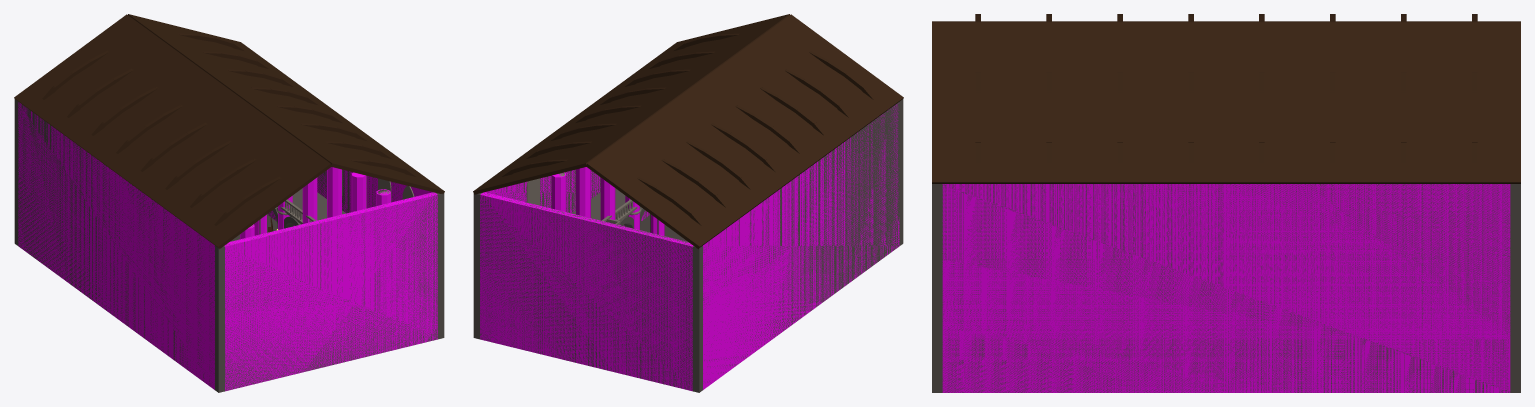
Rendered from igreja.glb.
3 renders of one model, left to right at view 1: azimuth 30°, elevation 25°; view 2: azimuth 150°, elevation 25°; view 3: azimuth 270°, elevation 25°, orthographic. The views are drawn at different scales.
Visible parts, largest first — view 1: OCC_roof-1, COL_box_wall_front, COL_box_wall_left, OCC_wall_front, OCC_wall_left, OCC_roof1, static_MAT_CLOTH_wood_dark, COL_box_wall_right, OCC_wall_right, COL_cyl_pillar1_4, static_MAT_CLOTH_church_stone, OCC_wall_back (+3 smaller); view 2: OCC_roof-1, COL_box_wall_back, COL_box_wall_left, OCC_wall_back, OCC_wall_left, OCC_roof1, static_MAT_CLOTH_wood_dark, COL_box_wall_right, OCC_wall_right, static_MAT_CLOTH_stone_trim, COL_cyl_pillar1_1, static_MAT_CLOTH_church_stone (+3 smaller); view 3: COL_box_wall_right, OCC_roof1, OCC_wall_right, static_MAT_CLOTH_wood_dark, OCC_wall_back, OCC_wall_front, OCC_roof-1.
Part boxes in pixels (x1=…): OCC_roof-1: x1=14, y1=14, x2=331, y2=249; COL_box_wall_front: x1=224, y1=192, x2=437, y2=391; COL_box_wall_left: x1=18, y1=102, x2=214, y2=389; OCC_wall_front: x1=215, y1=192, x2=444, y2=392; OCC_wall_left: x1=16, y1=102, x2=215, y2=384; OCC_roof1: x1=128, y1=14, x2=444, y2=193; static_MAT_CLOTH_wood_dark: x1=42, y1=33, x2=415, y2=232; COL_box_wall_right: x1=268, y1=170, x2=432, y2=225; OCC_wall_right: x1=268, y1=169, x2=419, y2=221; COL_cyl_pillar1_4: x1=327, y1=167, x2=341, y2=217; static_MAT_CLOTH_church_stone: x1=259, y1=188, x2=345, y2=234; OCC_wall_back: x1=14, y1=99, x2=18, y2=245; OCC_roof-1: x1=586, y1=14, x2=903, y2=249; COL_box_wall_back: x1=480, y1=192, x2=693, y2=390; COL_box_wall_left: x1=703, y1=103, x2=899, y2=389; OCC_wall_back: x1=473, y1=192, x2=702, y2=392; OCC_wall_left: x1=703, y1=100, x2=901, y2=382; OCC_roof1: x1=473, y1=14, x2=789, y2=194; static_MAT_CLOTH_wood_dark: x1=502, y1=33, x2=875, y2=225; COL_box_wall_right: x1=485, y1=170, x2=649, y2=226; OCC_wall_right: x1=481, y1=170, x2=649, y2=225; static_MAT_CLOTH_stone_trim: x1=526, y1=170, x2=641, y2=224; COL_cyl_pillar1_1: x1=576, y1=167, x2=590, y2=217; static_MAT_CLOTH_church_stone: x1=572, y1=188, x2=658, y2=234; COL_box_wall_right: x1=942, y1=184, x2=1510, y2=392; OCC_roof1: x1=932, y1=22, x2=1520, y2=183; OCC_wall_right: x1=937, y1=184, x2=1515, y2=392; static_MAT_CLOTH_wood_dark: x1=975, y1=14, x2=1477, y2=163; OCC_wall_back: x1=1510, y1=184, x2=1520, y2=392; OCC_wall_front: x1=932, y1=184, x2=942, y2=392; OCC_roof-1: x1=932, y1=21, x2=1520, y2=22.
Size of the model in its own units: 21.33 by 18.31 by 33.2.
